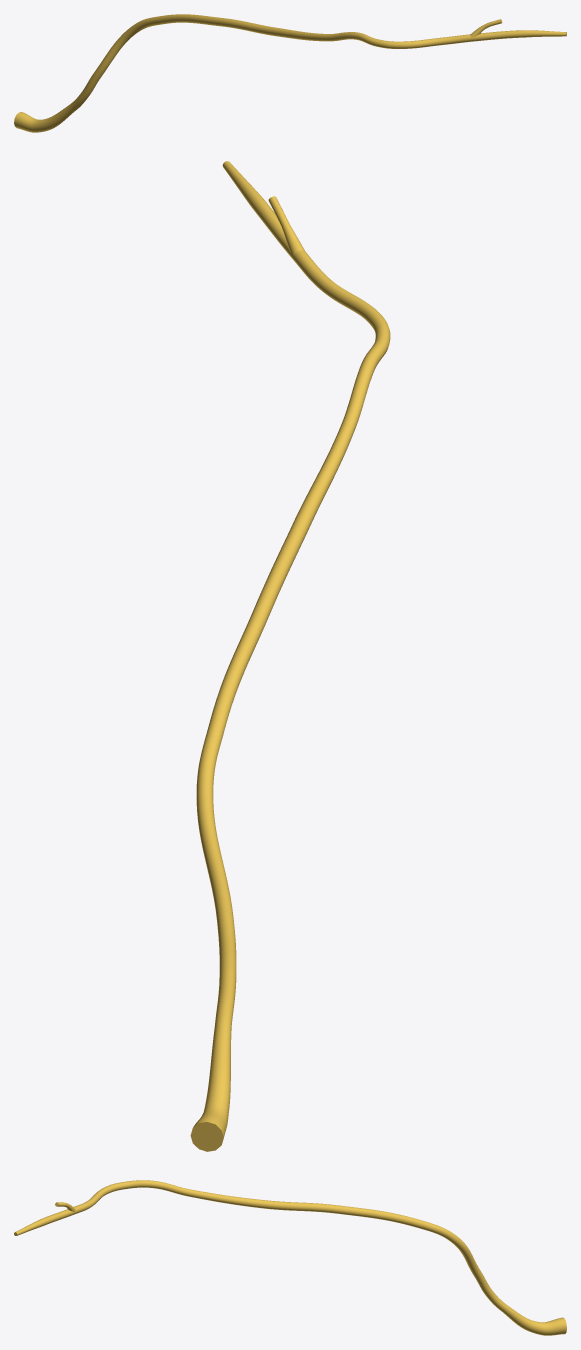
Rendered from Abducens_nerve_left.glb.
3 views of the same model, one above another, from view 1: azimuth 30°, elevation 25°; view 2: azimuth 150°, elevation 25°; view 3: azimuth 270°, elevation 25° (orthographic). The views are drawn at different scales.
Visible parts, largest first — view 1: Abducens_nerve_(VI).l_BezierCurve.554; view 2: Abducens_nerve_(VI).l_BezierCurve.554; view 3: Abducens_nerve_(VI).l_BezierCurve.554.
Part boxes in pixels (box(x1,y1,x2,y2)): Abducens_nerve_(VI).l_BezierCurve.554: box(14, 14, 566, 132); Abducens_nerve_(VI).l_BezierCurve.554: box(190, 161, 390, 1151); Abducens_nerve_(VI).l_BezierCurve.554: box(14, 1180, 566, 1335).
Bounding box in the file's own units: 0.0297 × 0.0249 × 0.0523.
